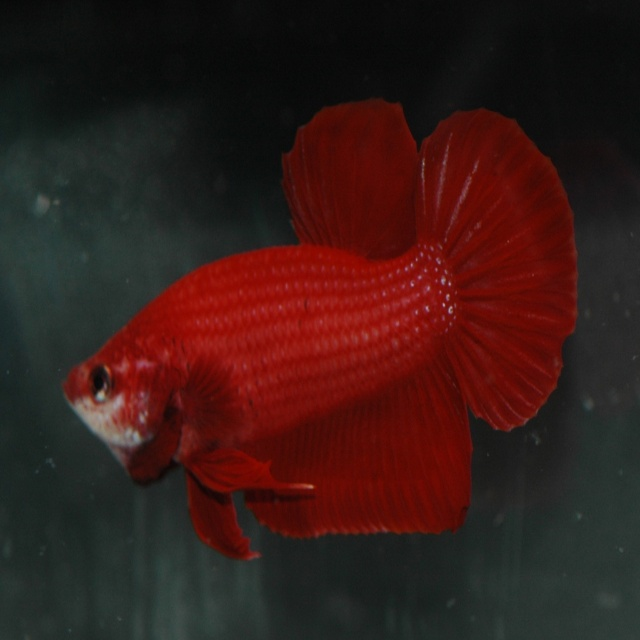Goldfish: (38, 87, 607, 587)
